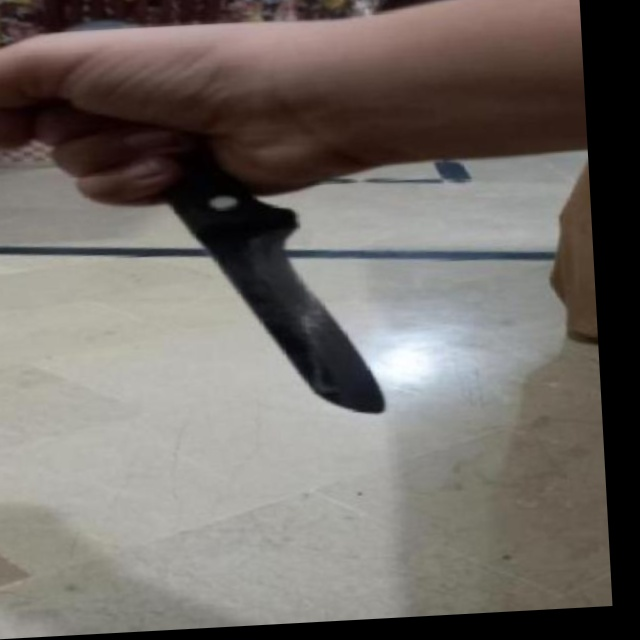Sharp-Object: (162, 130, 387, 425)
